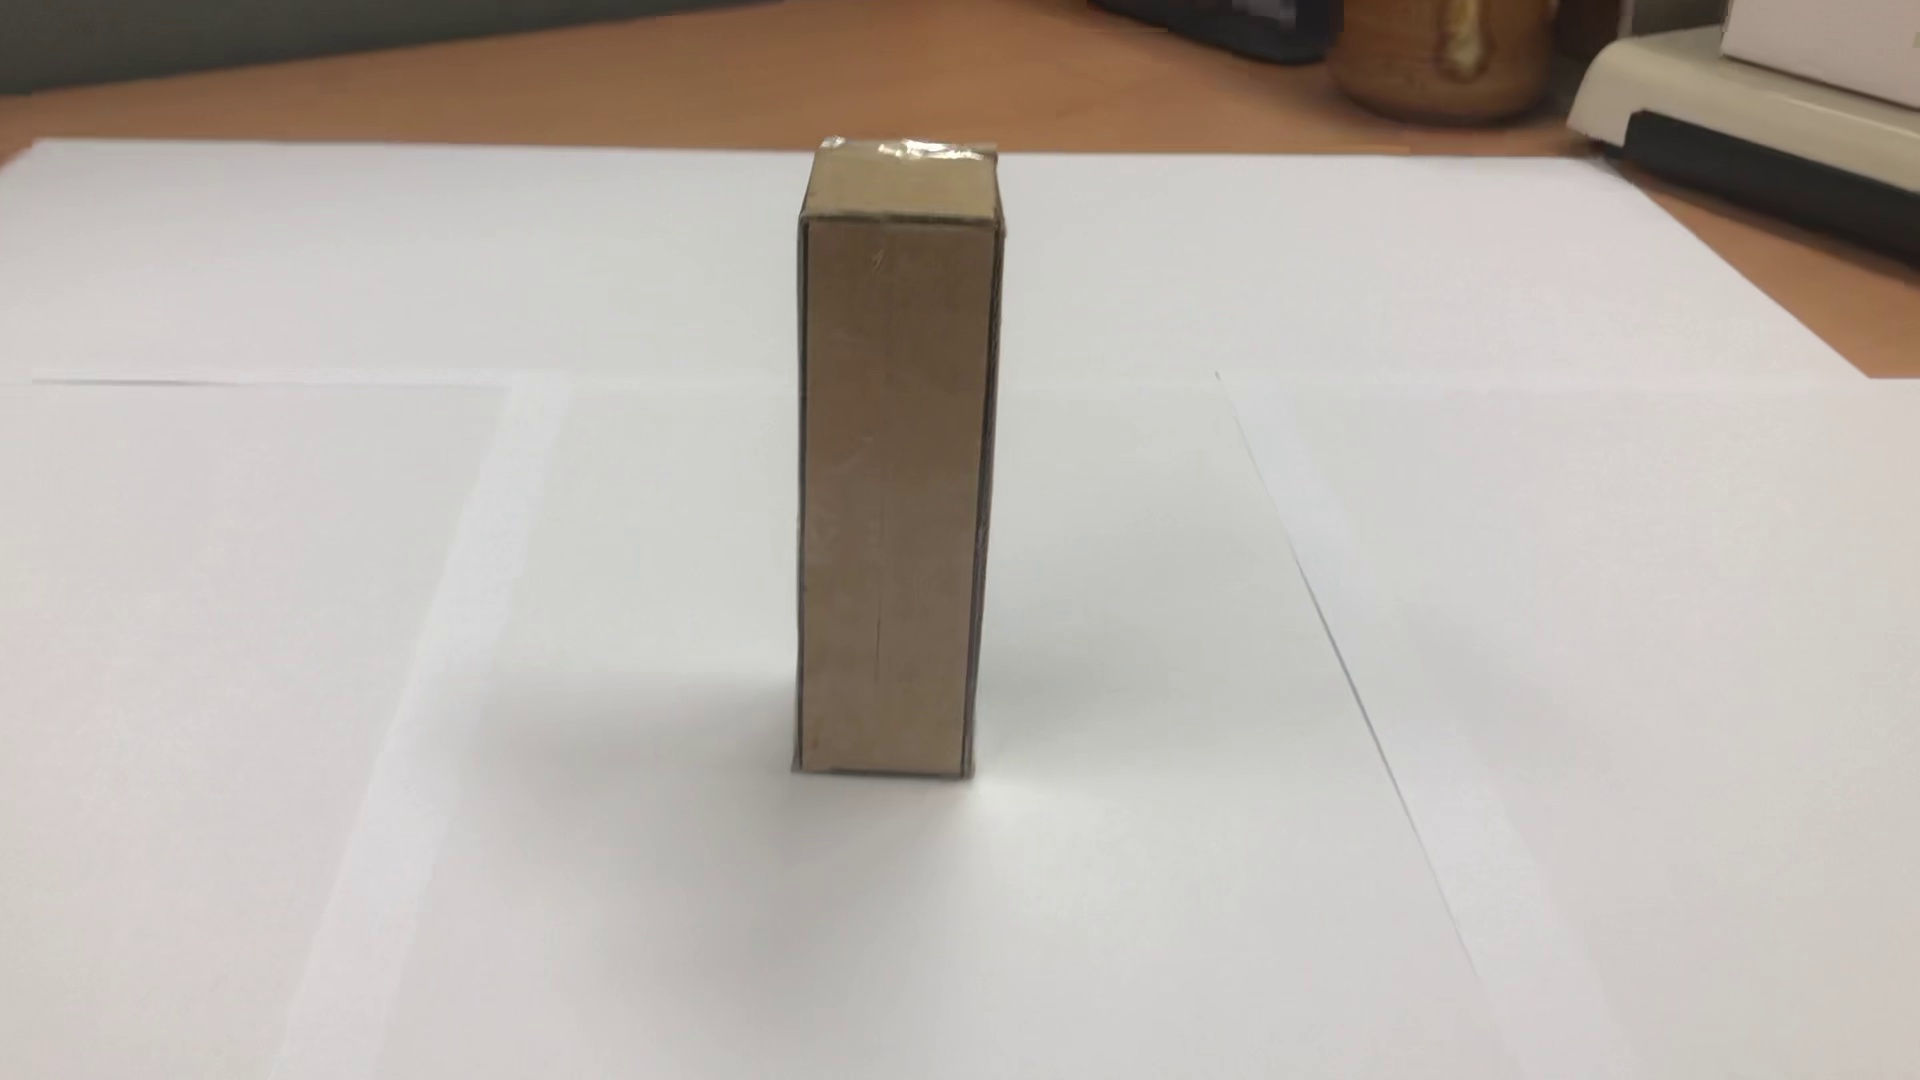box: (717, 80, 1063, 814)
